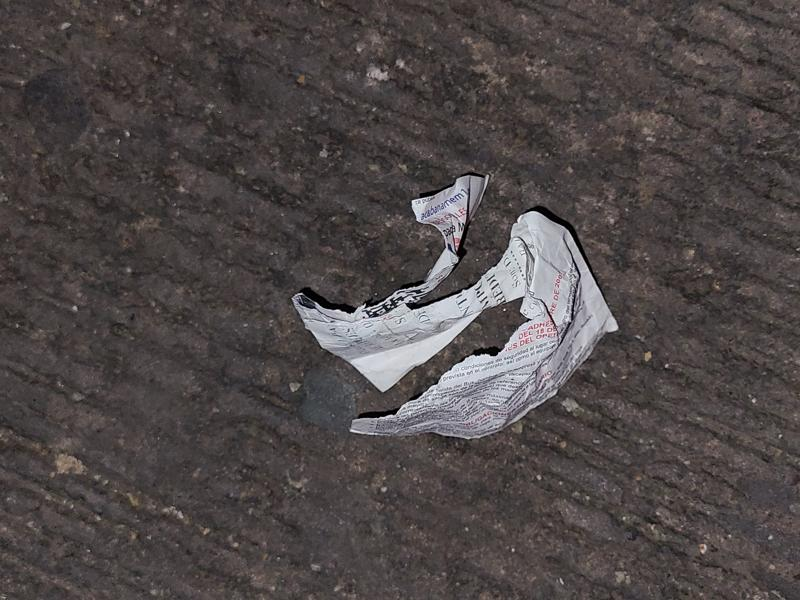papel: (292, 175, 618, 440)
